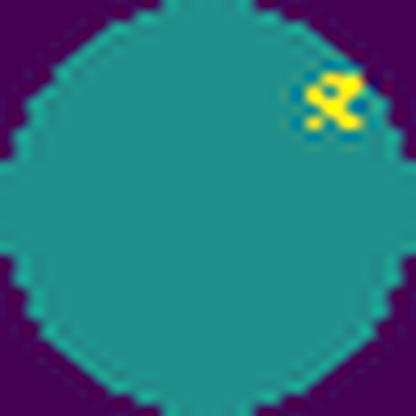Loc: (304, 72, 365, 135)
